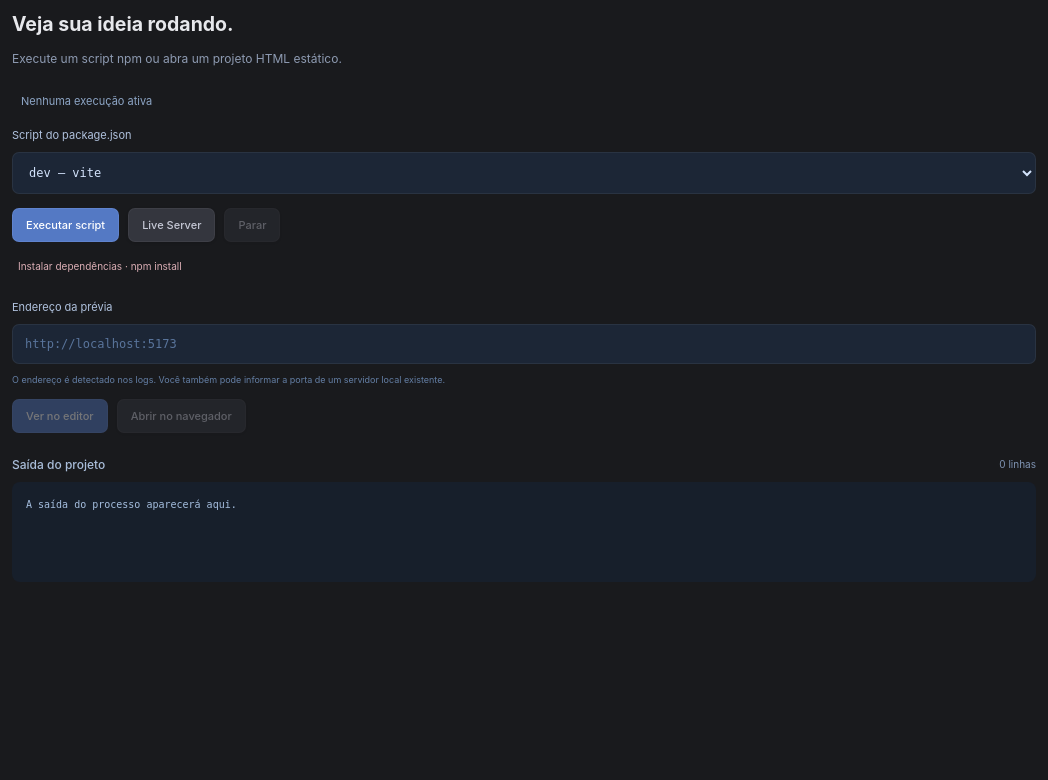
Executar projeto › recusa prévia fora do localhost
Step 1. Type "https://exemplo.com" into the field labelled "Endereço da prévia" → (524, 344), box [12, 324, 1036, 364]
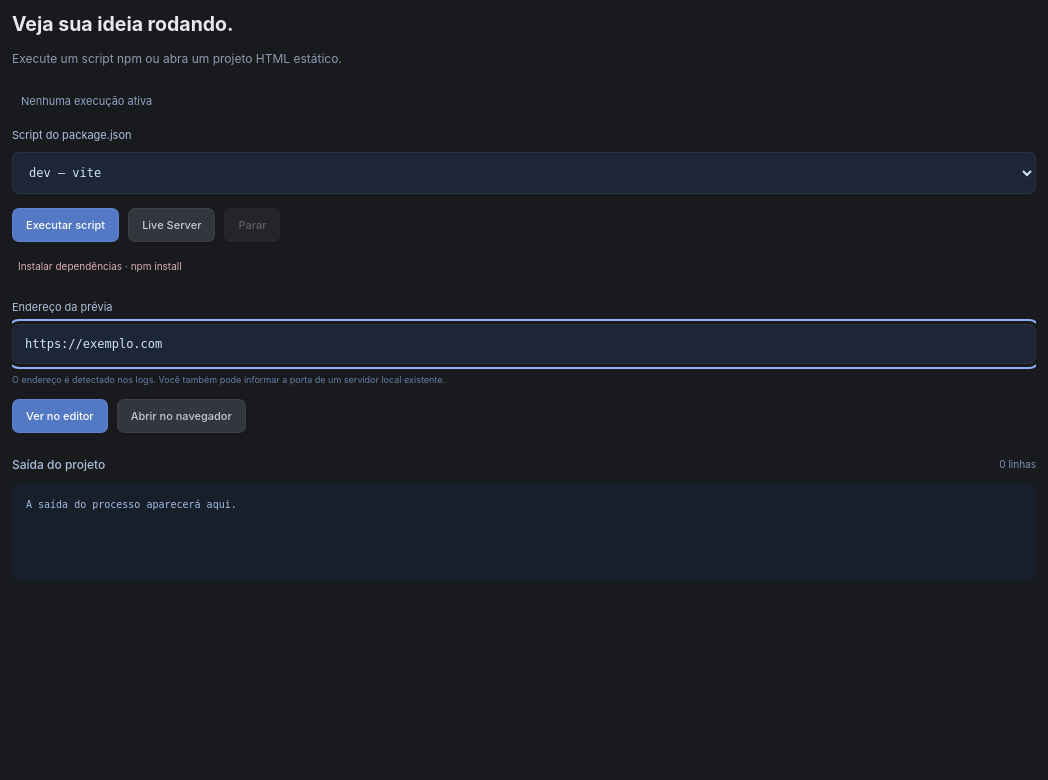
Step 2. Click the button "Ver no editor" → (60, 416), box [12, 399, 108, 433]
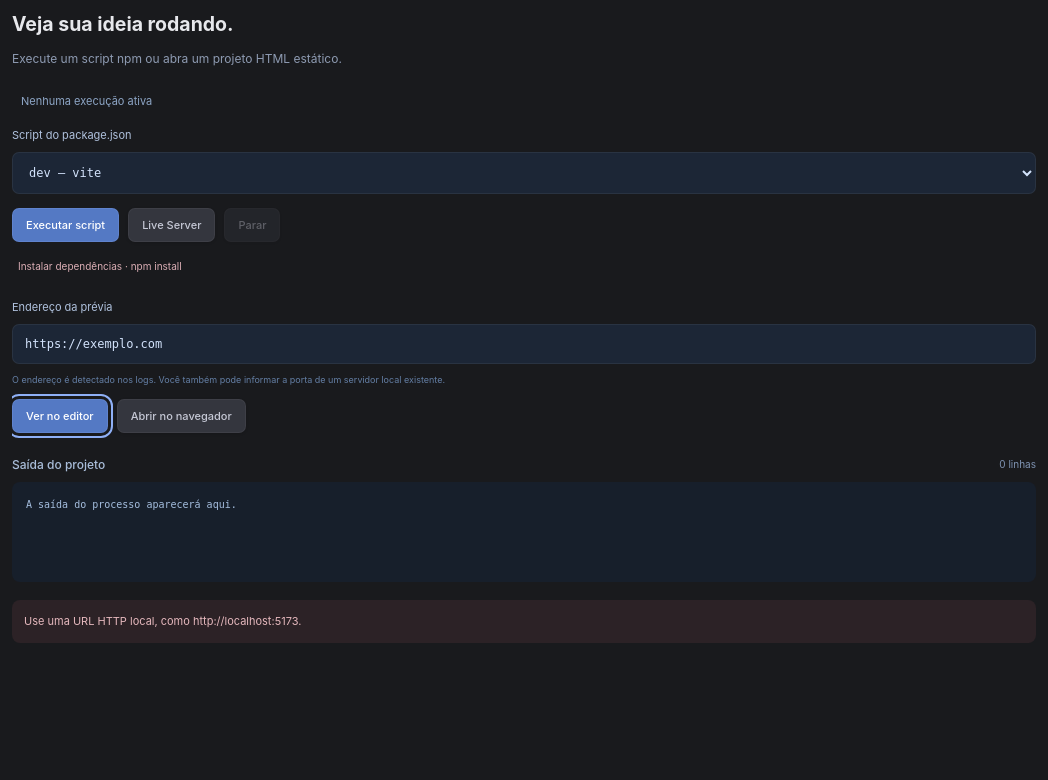
Expected: the message "Use uma URL HTTP local, como http://localhost:5173." is shown, [12, 600, 1036, 643]
